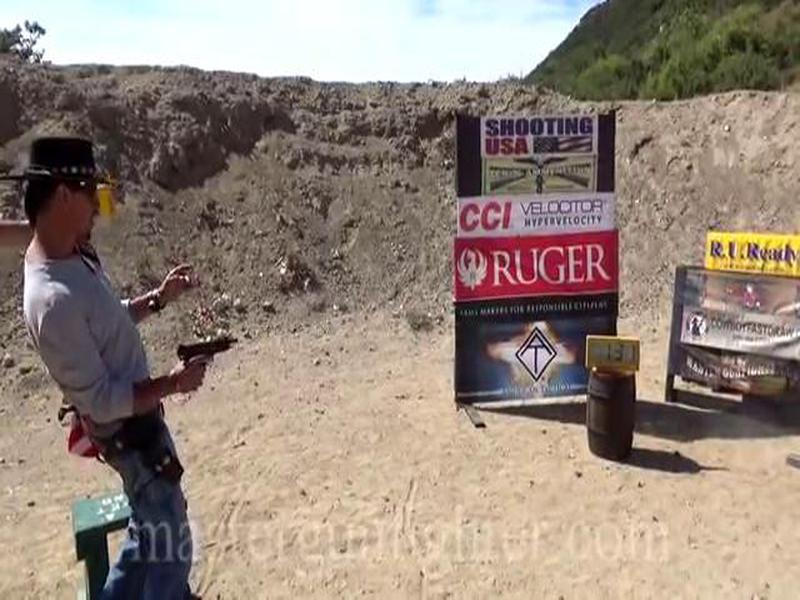Pistola: (168, 321, 250, 389)
